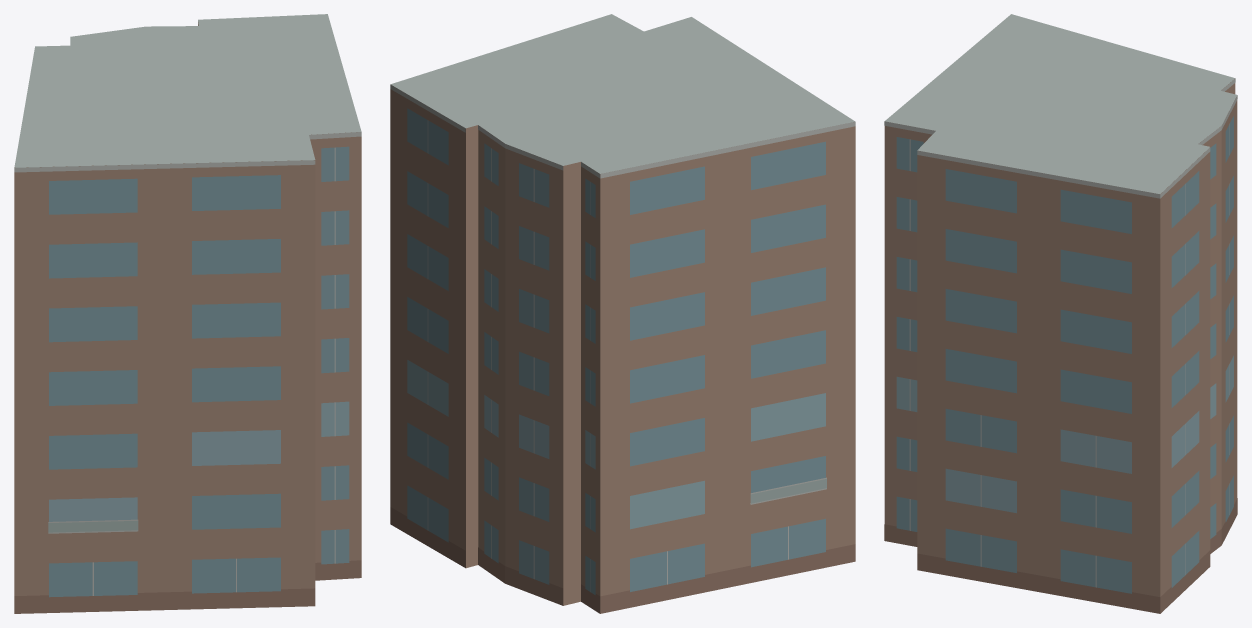
File: survey-upis-32986474.glb
3 views of the same model, side by side, from view 1: azimuth 30°, elevation 25°; view 2: azimuth 150°, elevation 25°; view 3: azimuth 270°, elevation 25° (orthographic). The views are drawn at different scales.
Parts seen in each view (by area): view 1: survey-upis-32986474.tmp; view 2: survey-upis-32986474.tmp; view 3: survey-upis-32986474.tmp.
Boxes of the visible parts, x1=… form: survey-upis-32986474.tmp: x1=14, y1=14, x2=361, y2=613; survey-upis-32986474.tmp: x1=390, y1=14, x2=855, y2=613; survey-upis-32986474.tmp: x1=884, y1=14, x2=1237, y2=613.
Bounding box in the file's own units: 21.38 × 23.2 × 17.69.
